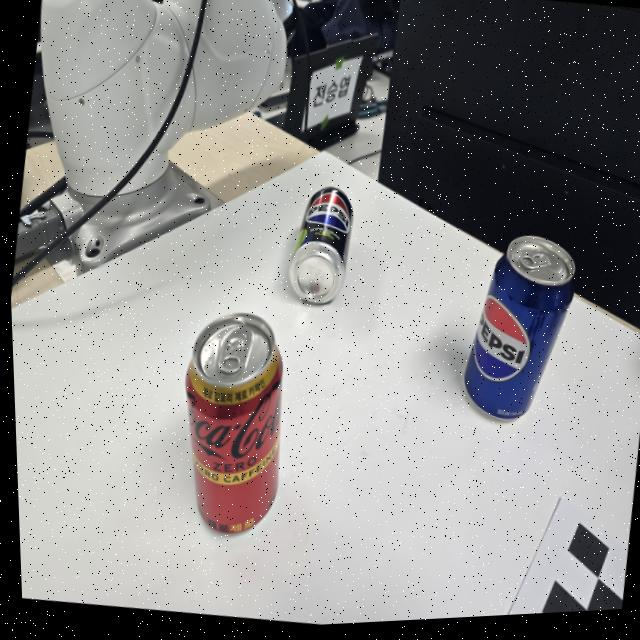can_coke_decaf: (183, 313, 279, 533)
can_pepsi: (463, 234, 576, 420)
can_pepsi_zero: (288, 189, 355, 304)
